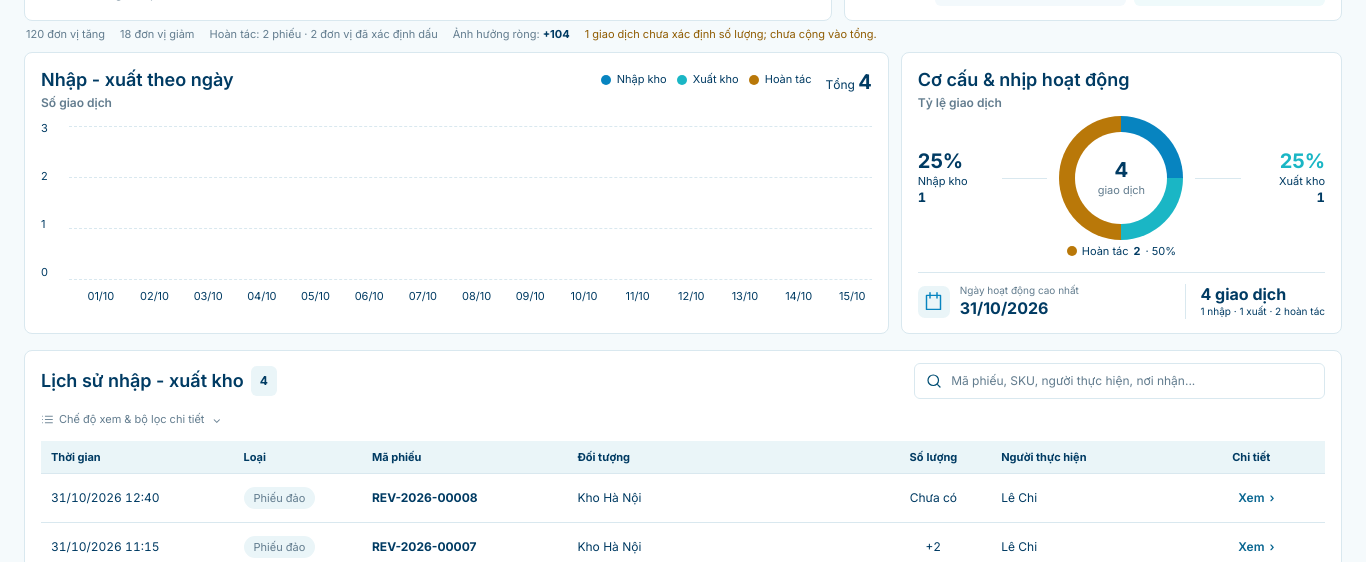
Test case: RPT-IO-01 · Lịch sử nhập – xuất kho › tab Lát cắt gom phiếu gốc với hoàn tác cùng chứng từ tham chiếu
The image size is (1366, 562).
(page scrolled)
Step 1. Click the heading "Chế độ xem & bộ lọc chi tiết" → [131, 420], box [41,409,221,431]
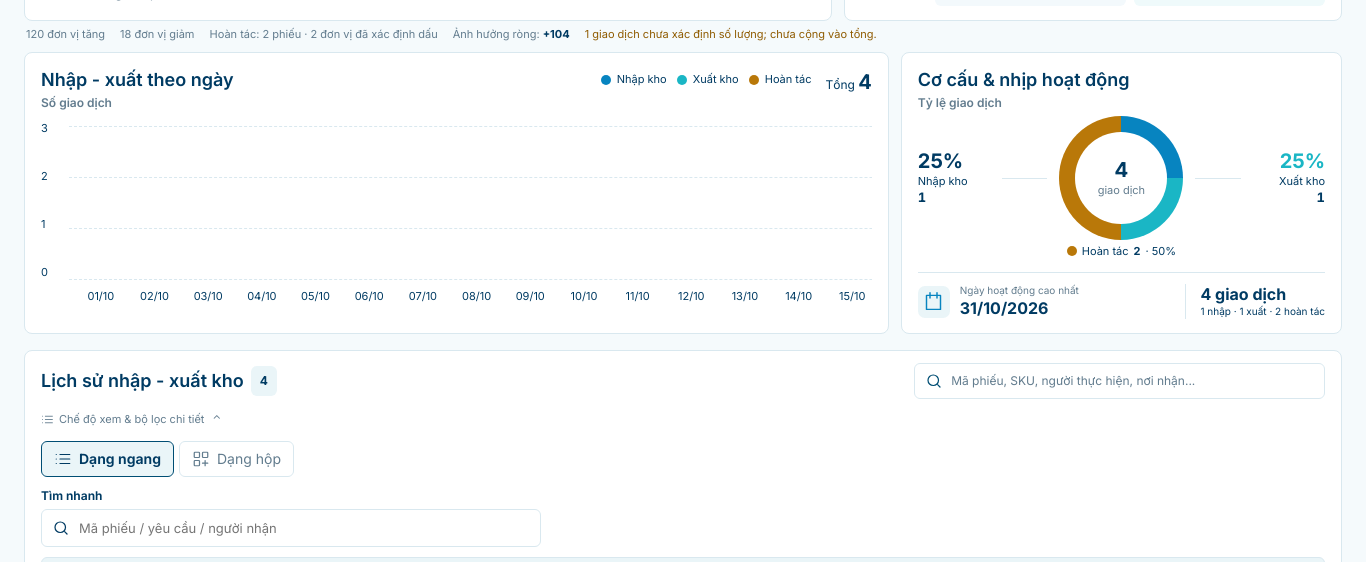
Step 2. Click the tab "Dạng hộp" → [236, 459], box [179,441,294,477]
(page scrolled)
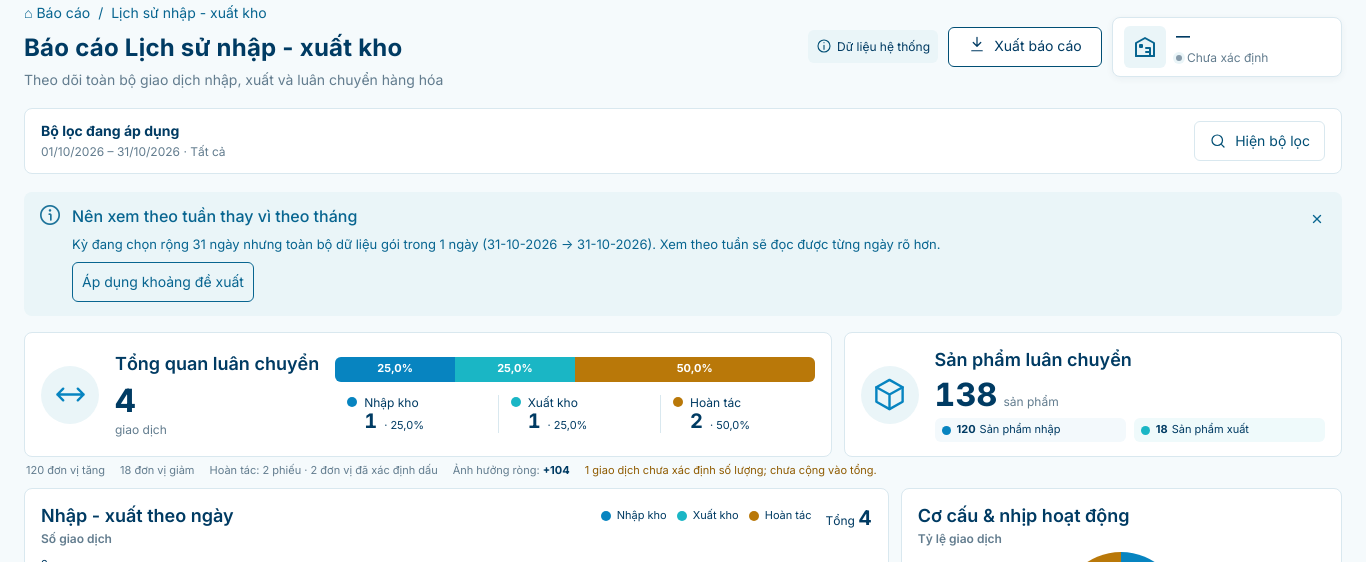
Now the text "Bộ lọc đang áp dụng" is shown, box [41,122,179,139]
Step 3. Click the button "Hiện bộ lọc" → [1260, 141], box [1194,121,1325,161]
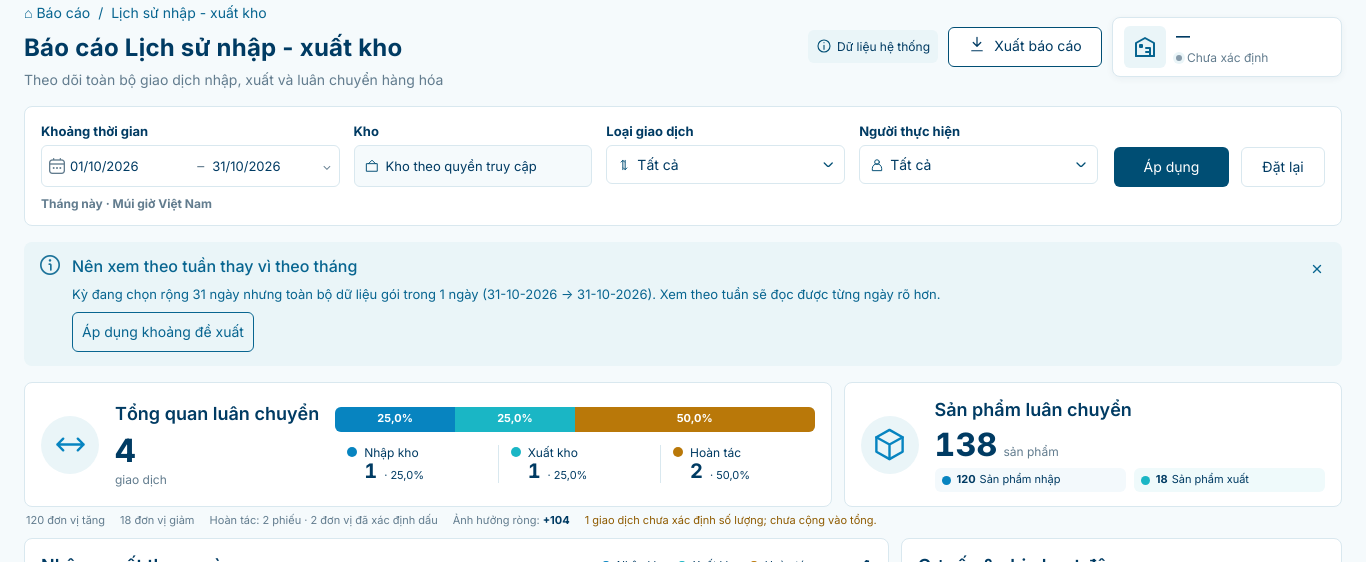
Now the text "Bộ lọc đang áp dụng" is gone
